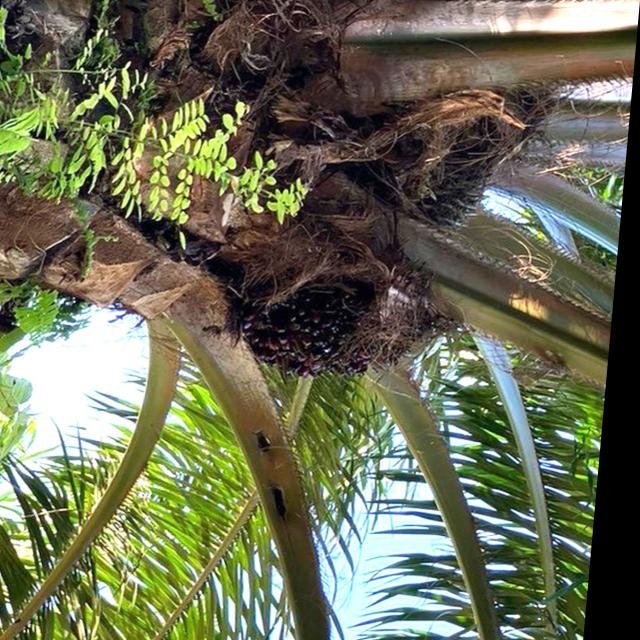almost: (235, 260, 446, 388)
